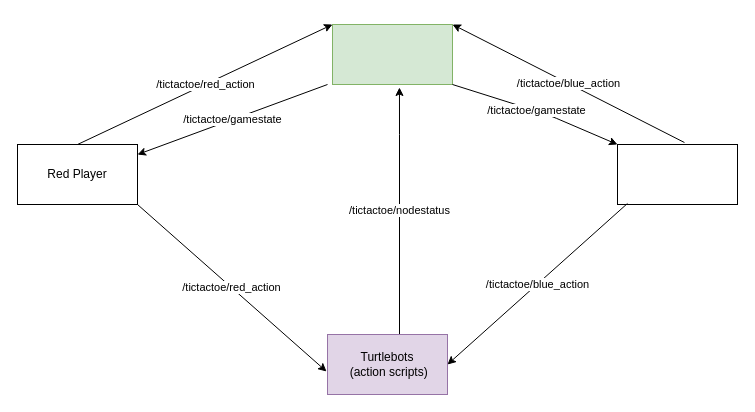
Image size: 755x412. Some labels were removed from this diagram. The shapes that lost their labels are listed below. From the top down, each one's centre as x and y in pixels, then its label:
At point (392, 54): "GameNode()".
At point (677, 174): "Blue Player".
